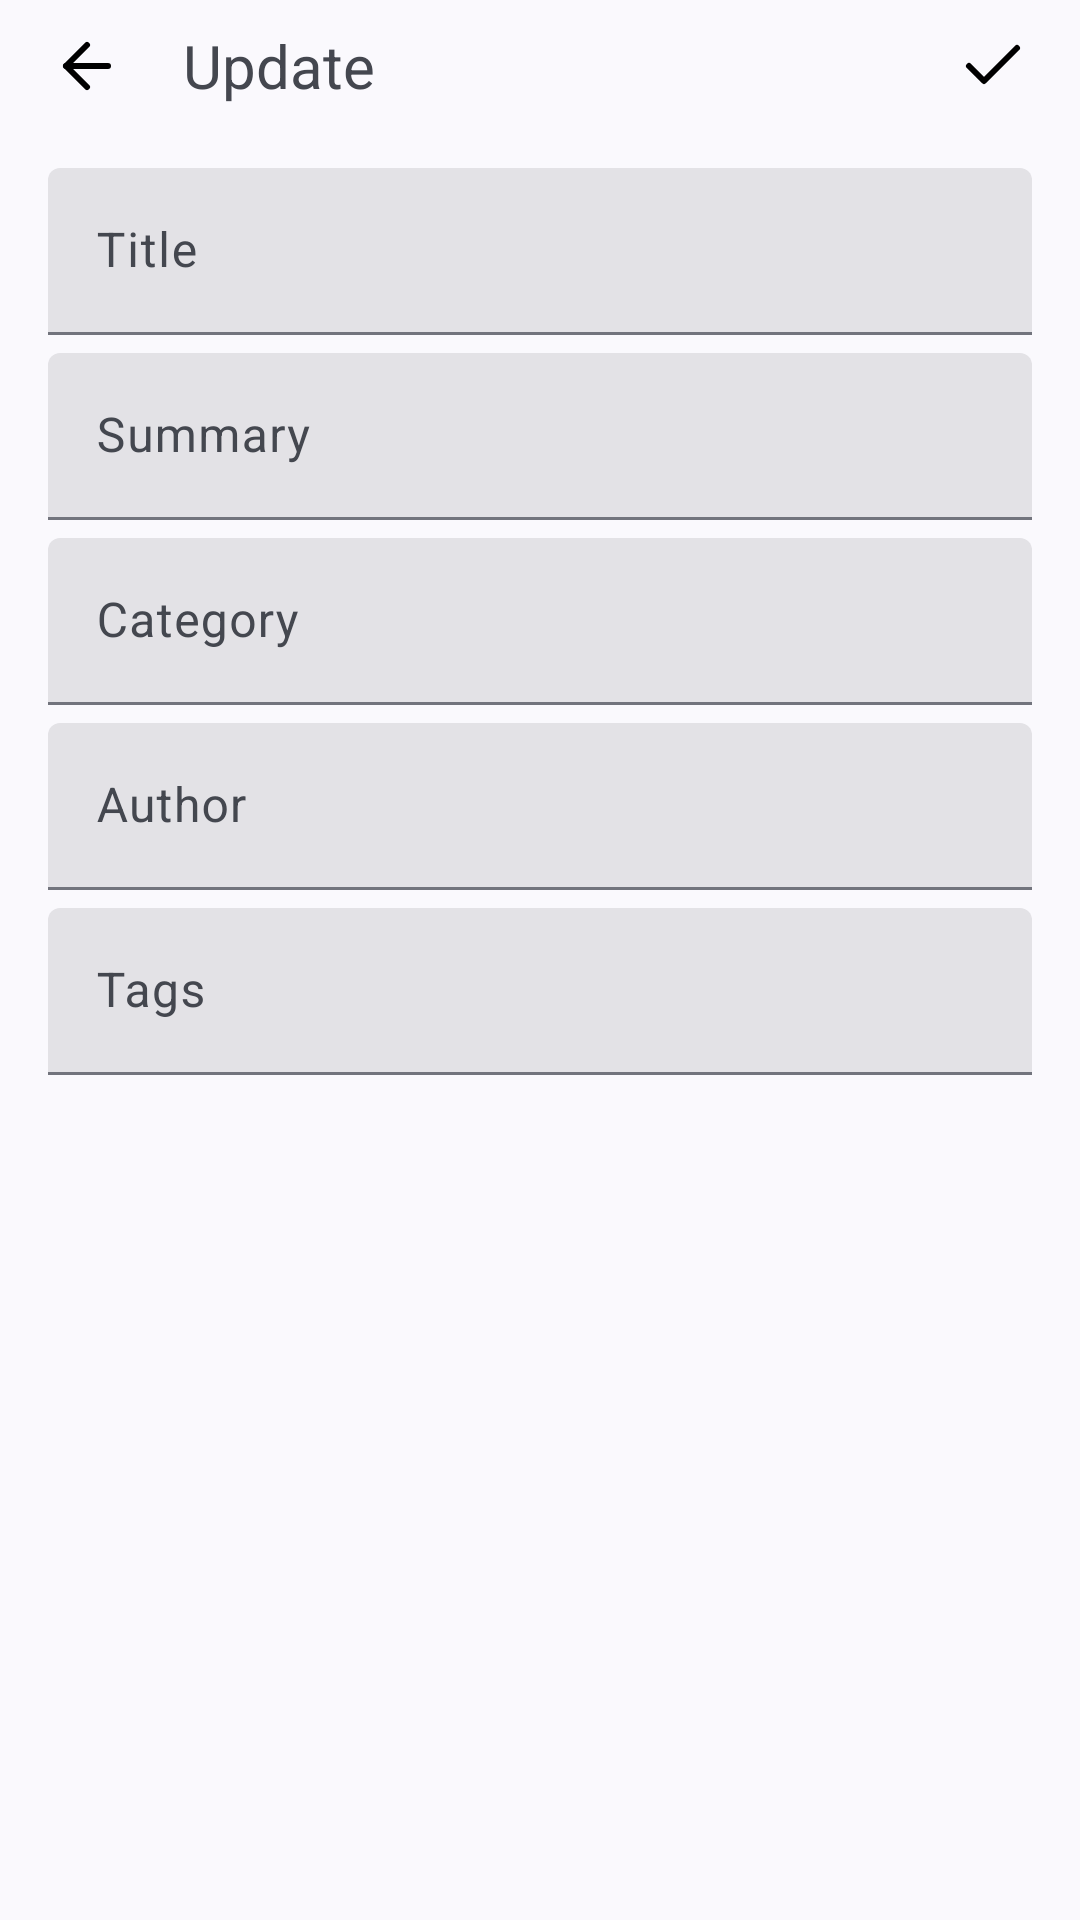

Where icons sit on this 1080px x 1920px app screen, as (x1, y1, x2, y2):
Navigate back to the main menu: (63, 42, 111, 90)
